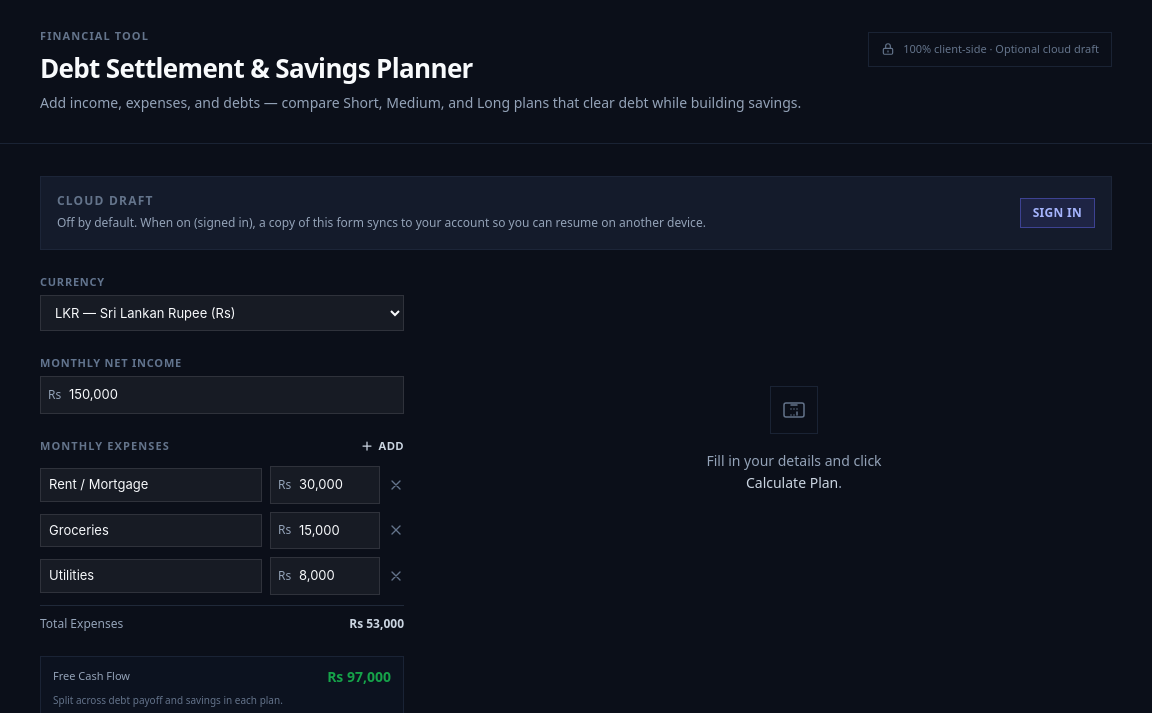
Test: DebtOptimizerClient — adding rows › adds a new expense row when the expense + Add button is clicked
The image size is (1152, 713).
What coordinates should you click on to do the following:
click the button "Add"
I would click on:
 (383, 446)
Its box is x1=361 y1=438 x2=404 y2=454.
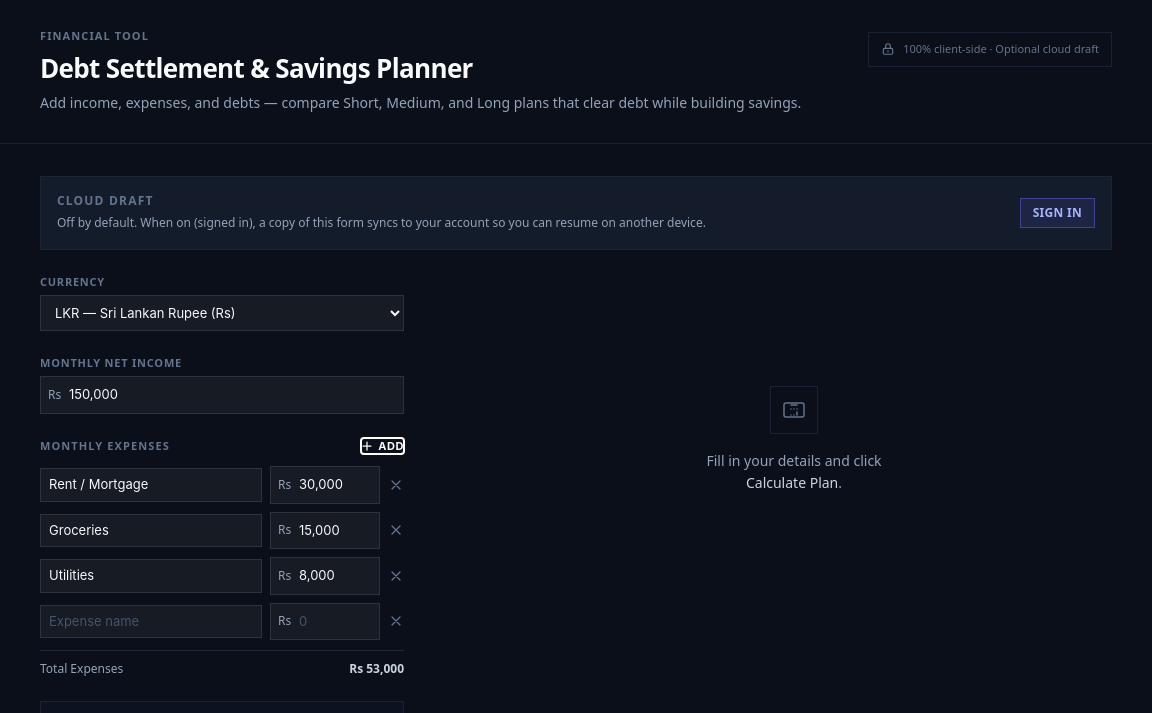
Check: the number of fields with placeholder "Expense name" is 4, box x1=40 y1=468 x2=262 y2=502; x1=40 y1=514 x2=262 y2=547; x1=40 y1=559 x2=262 y2=593; x1=40 y1=605 x2=262 y2=638
